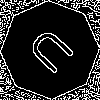U: (25, 25, 84, 83)
